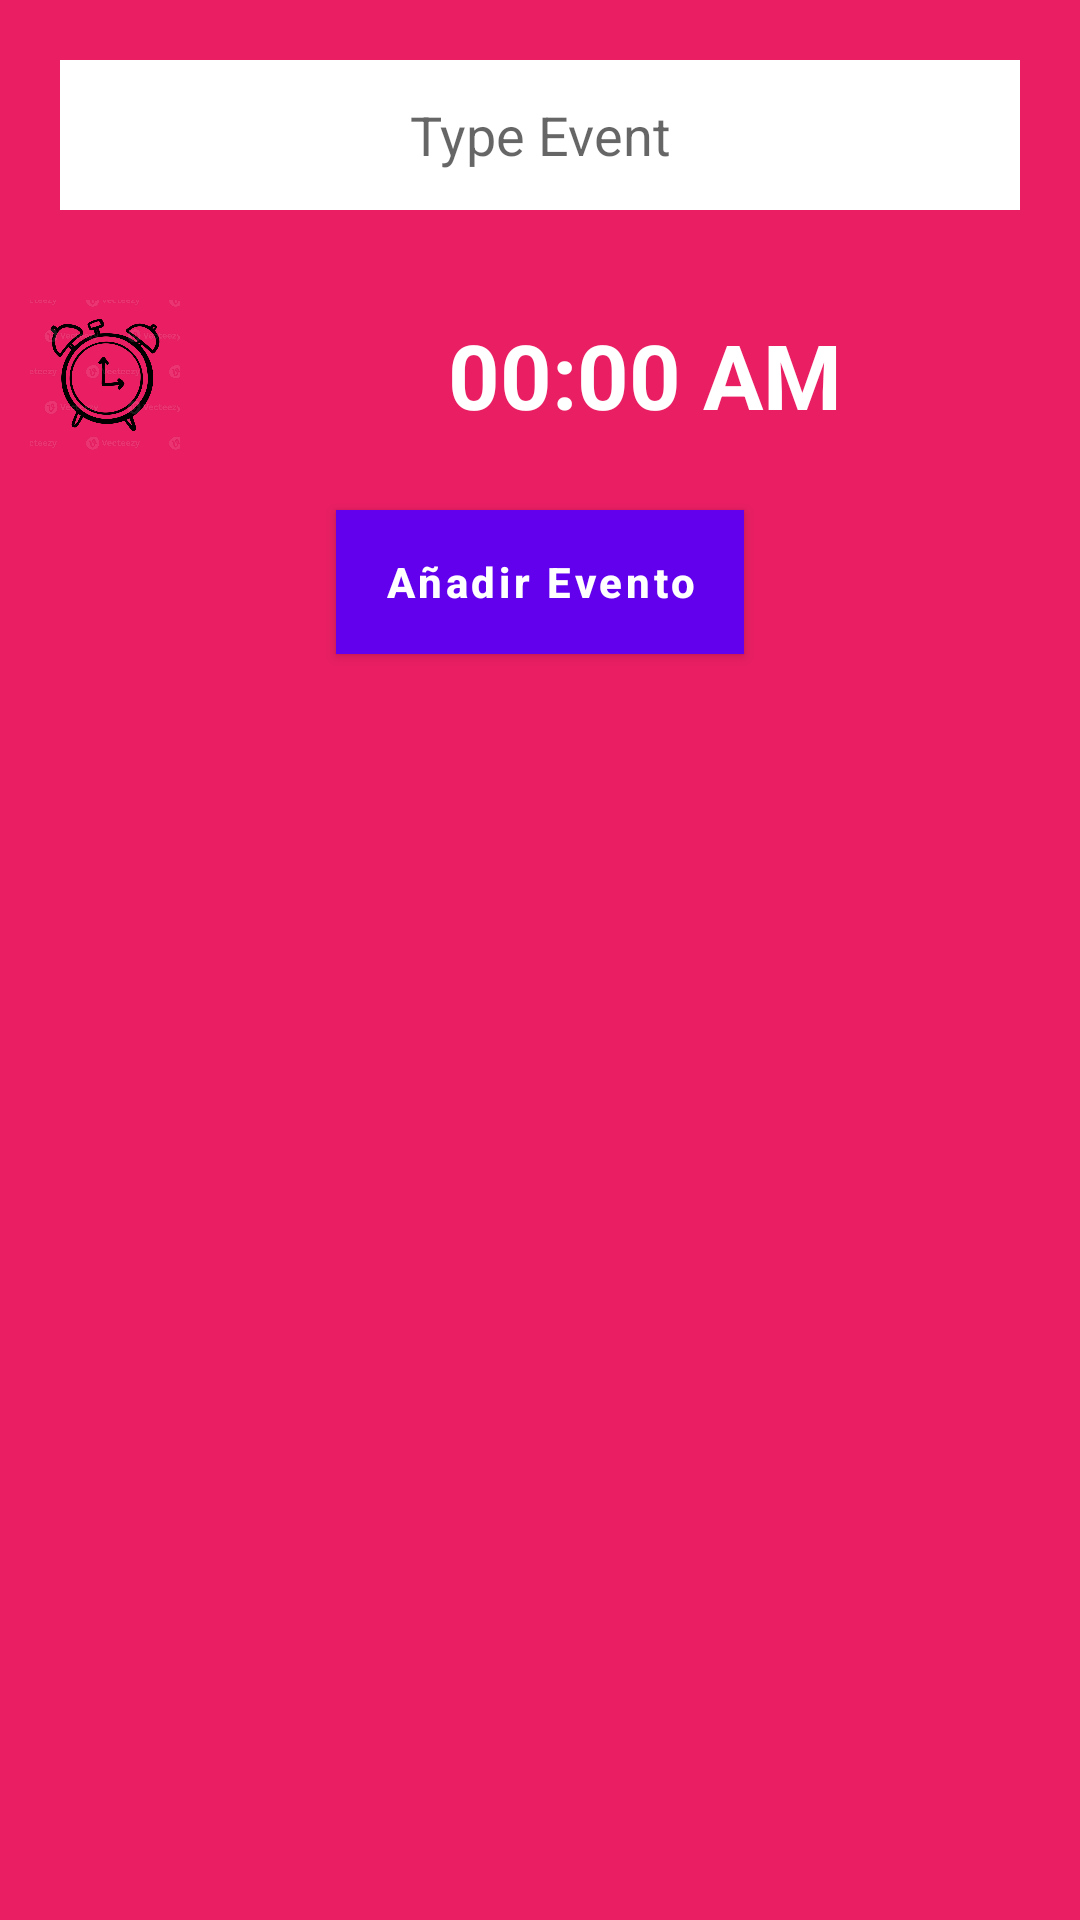

Screen size 1080 × 1920. Icon name, then its center in pixels as (x=x, y=y):
reloj: (x=105, y=375)
